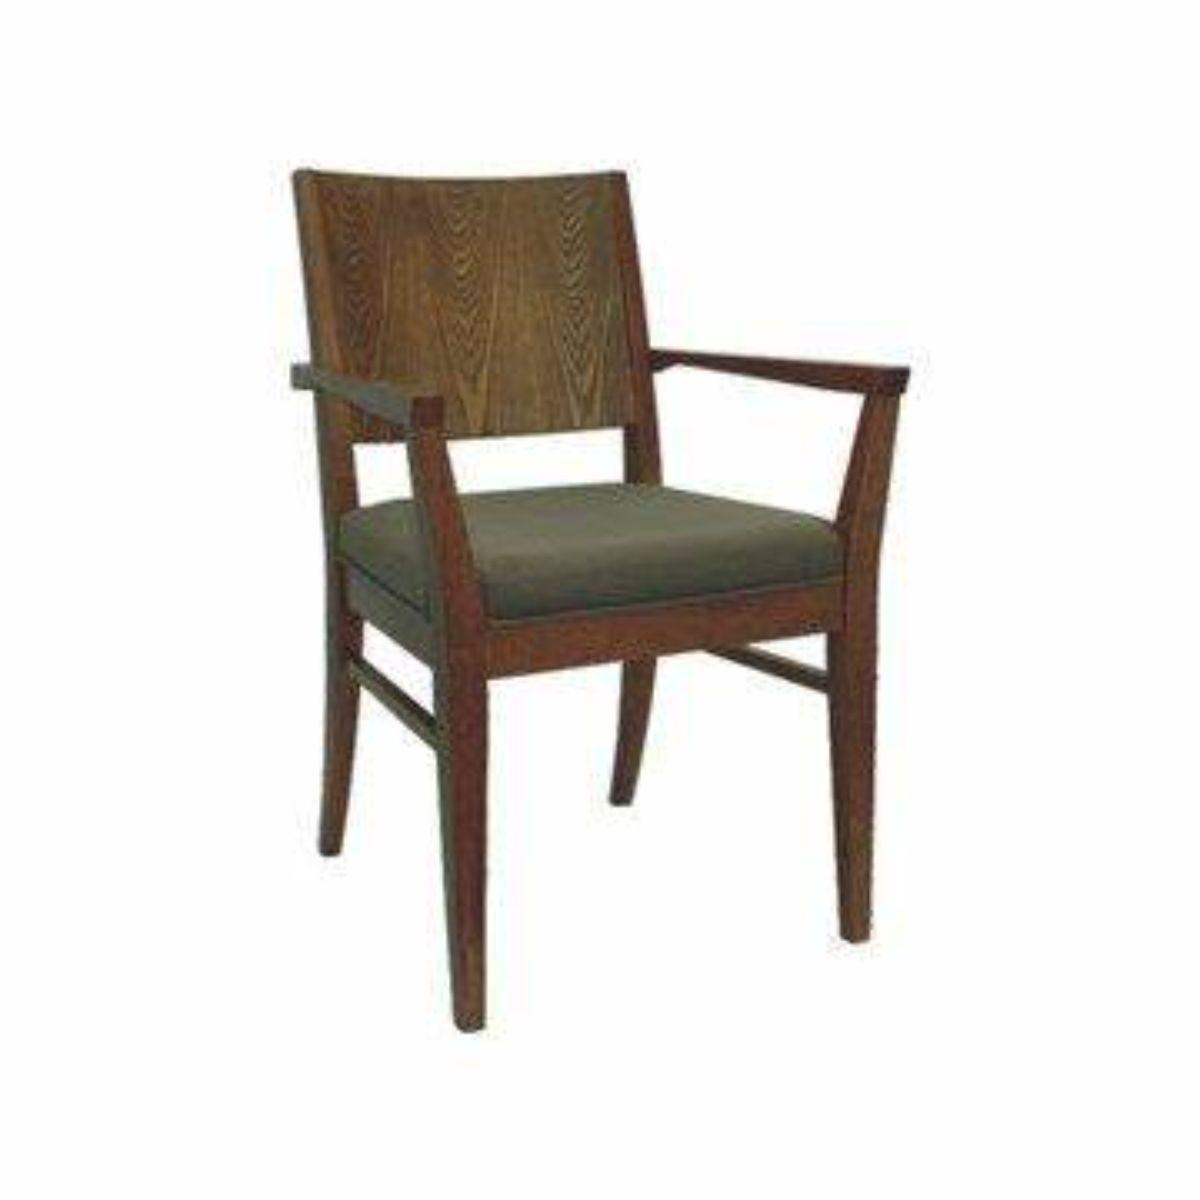Chair: (280, 162, 914, 1033)
